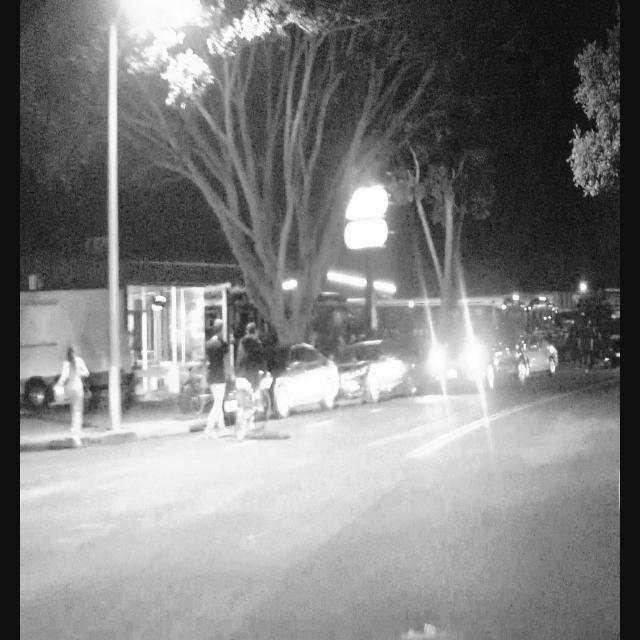Truck: (21, 289, 132, 409)
